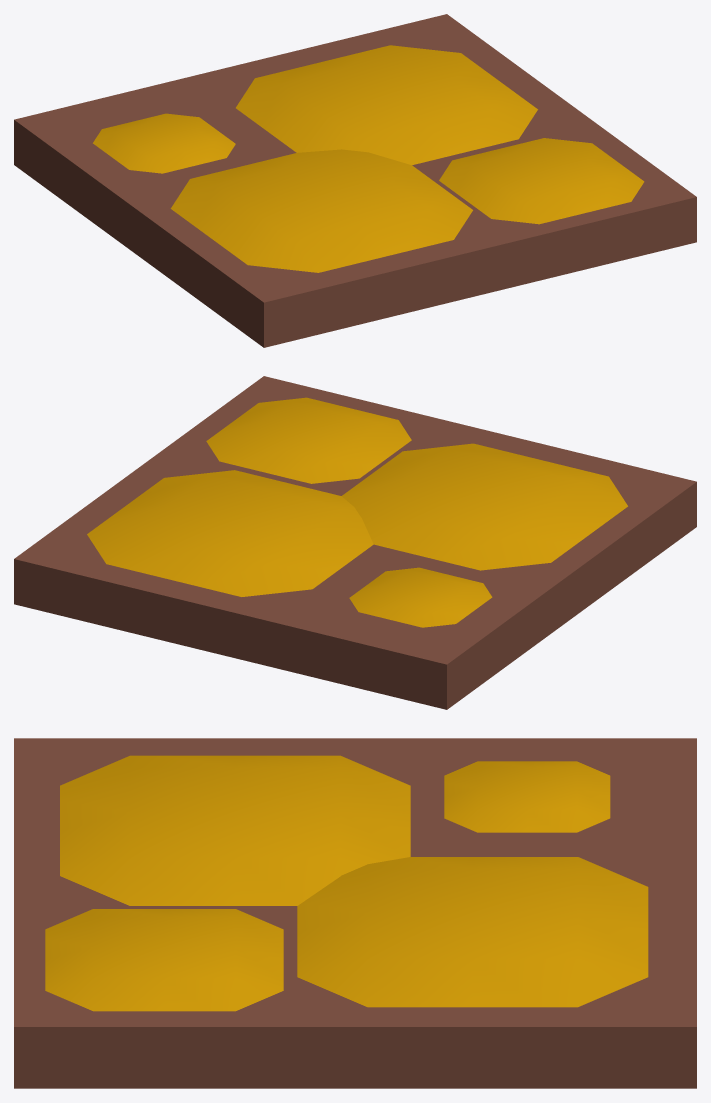
Rendered from Ore.obj.
3 renders of one model, top to bottom at view 1: azimuth 30°, elevation 25°; view 2: azimuth 150°, elevation 25°; view 3: azimuth 270°, elevation 25°, orthographic. The views are drawn at different scales.
Parts seen in each view (by area): view 1: Tilebase100, Plane004, Plane001, Plane003, Plane002; view 2: Tilebase100, Plane001, Plane004, Plane003, Plane002; view 3: Tilebase100, Plane001, Plane004, Plane003, Plane002.
Boxes of the visible parts, x1,y1,x2,y2 form: Tilebase100: [14, 14, 696, 347]; Plane004: [170, 149, 472, 272]; Plane001: [236, 45, 537, 165]; Plane003: [439, 138, 644, 224]; Plane002: [93, 113, 235, 173]; Tilebase100: [14, 376, 696, 709]; Plane001: [87, 470, 373, 596]; Plane004: [342, 443, 627, 570]; Plane003: [206, 397, 411, 483]; Plane002: [349, 567, 492, 627]; Tilebase100: [14, 738, 696, 1088]; Plane001: [297, 857, 648, 1007]; Plane004: [60, 755, 410, 905]; Plane003: [45, 909, 283, 1011]; Plane002: [444, 761, 610, 832].
Size of the model in its own units: 10 by 1.29 by 10.
